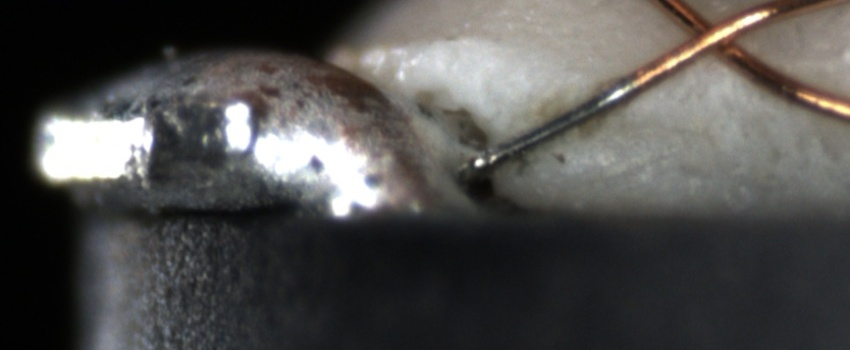CL: (667, 3, 759, 68)
TS: (486, 79, 636, 166)
